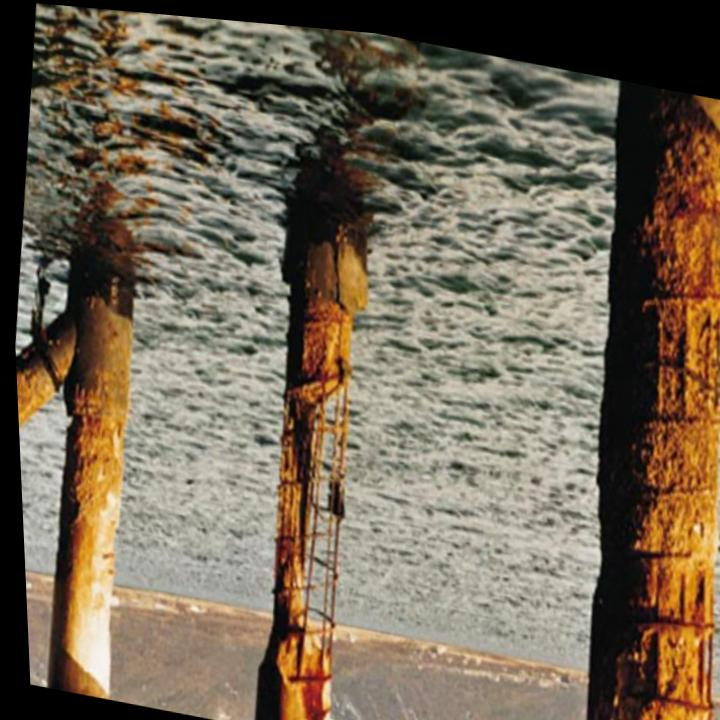damage: (581, 69, 720, 720), (267, 282, 351, 720)
